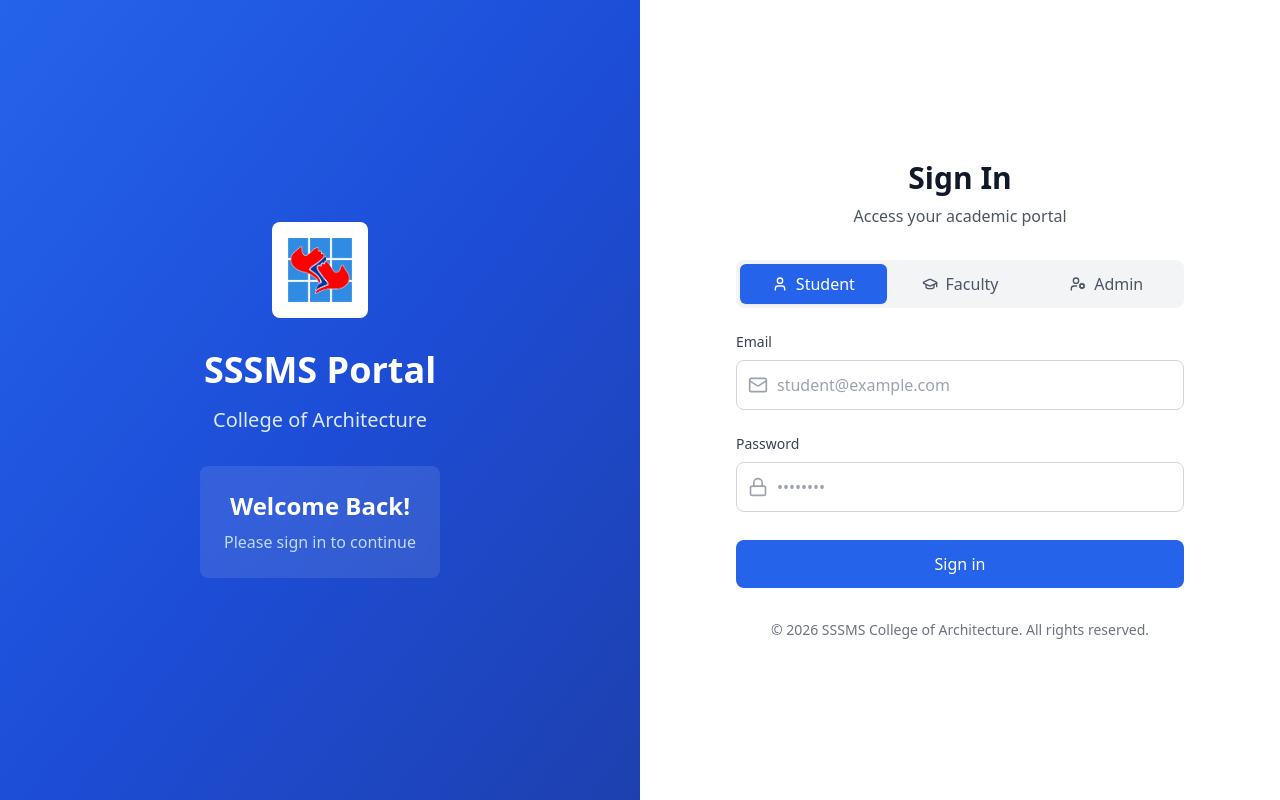
Scenario: Login Component › displays loading state during submission
Type "test@test.com" into the field labelled "Email" at (960, 385), box [736, 360, 1184, 410]
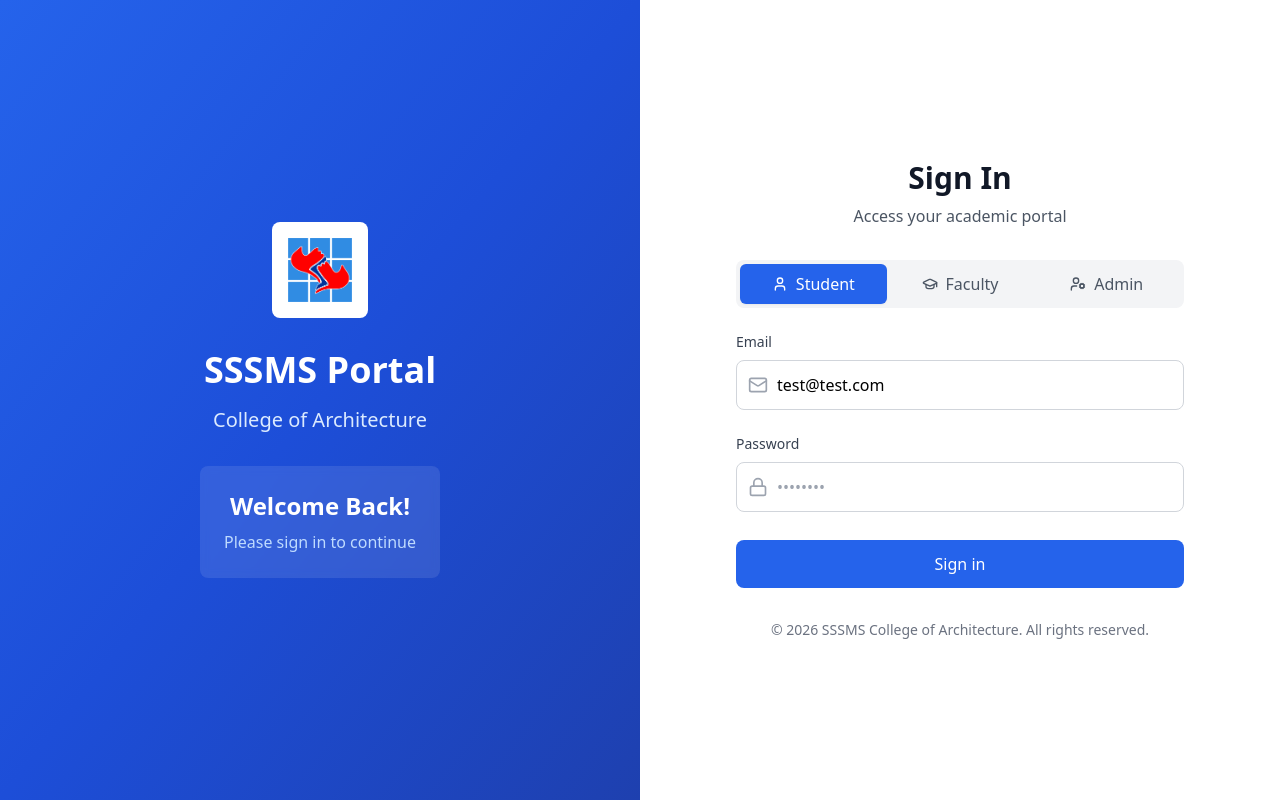
Type "password" into the password field labelled "Password" at (960, 487), box [736, 462, 1184, 512]
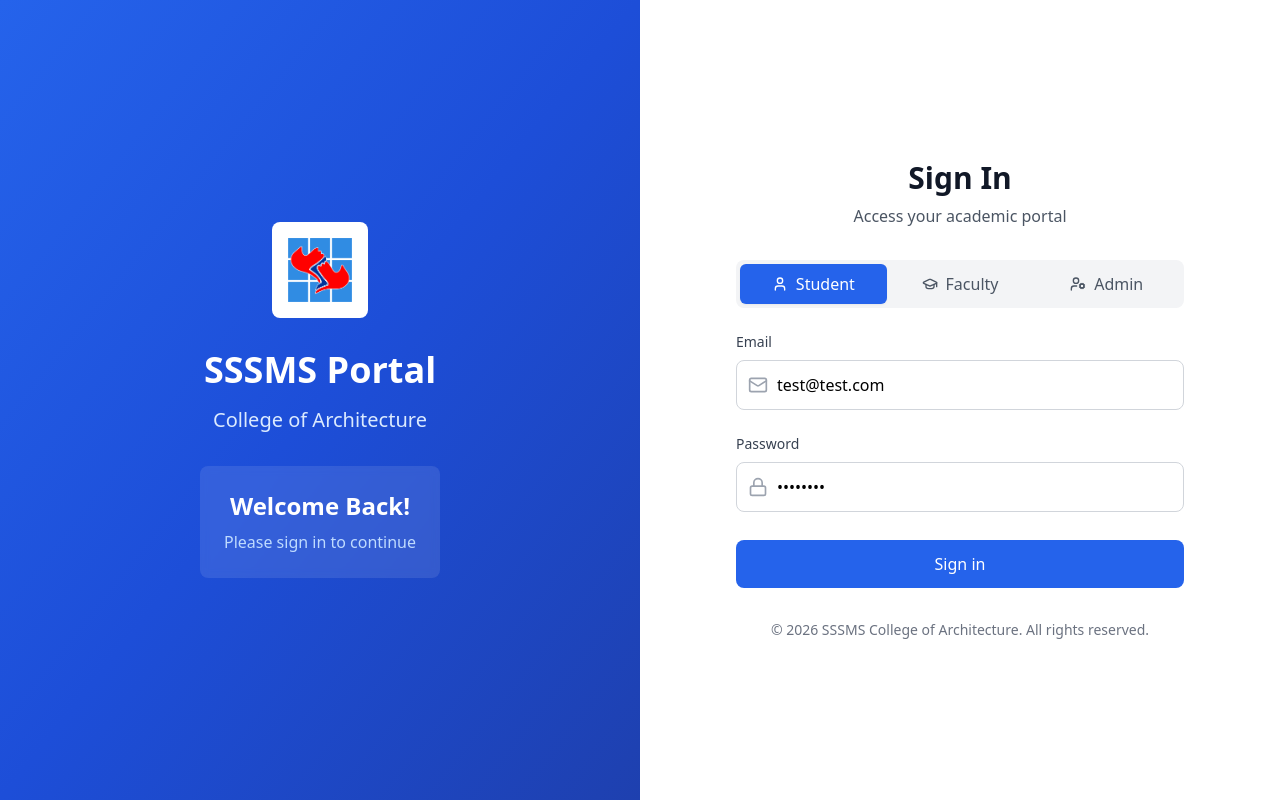
Click the button "Sign in" at (960, 564), box [736, 540, 1184, 588]
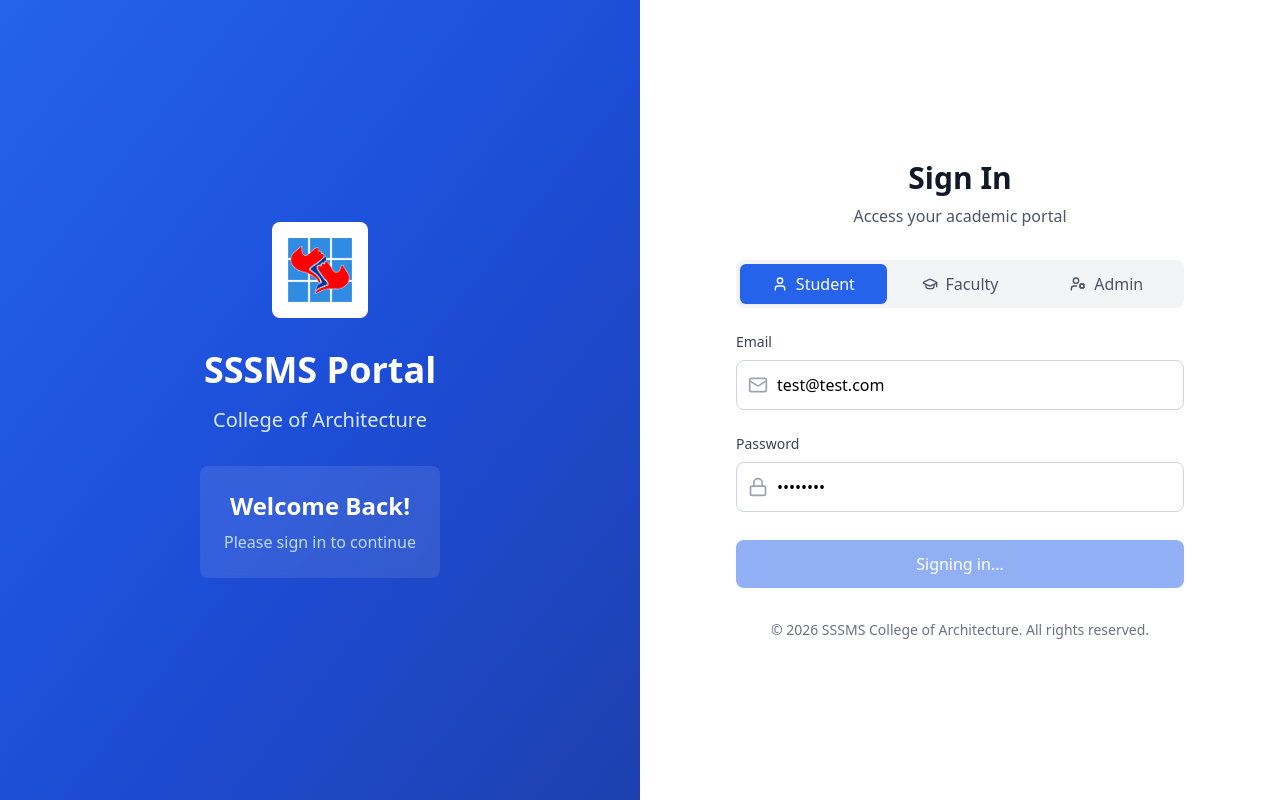
Expected: the button "Signing in..." is disabled, [736, 540, 1184, 588]
